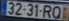1: (33, 3, 38, 17)
2: (14, 1, 22, 15)
3: (7, 1, 15, 15), (26, 2, 34, 16)
Q: (51, 5, 61, 19)
R: (41, 4, 52, 18)
